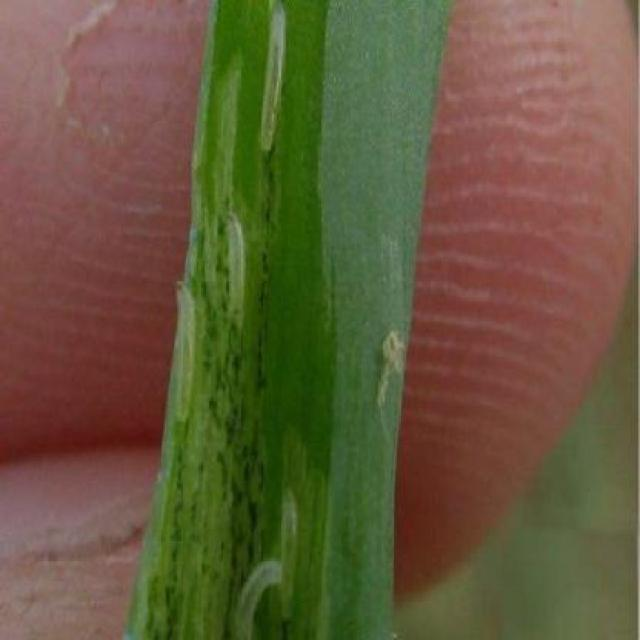whorl-maggot: (251, 0, 286, 160), (228, 552, 286, 640), (172, 280, 202, 426), (276, 482, 304, 620), (223, 202, 248, 343)
